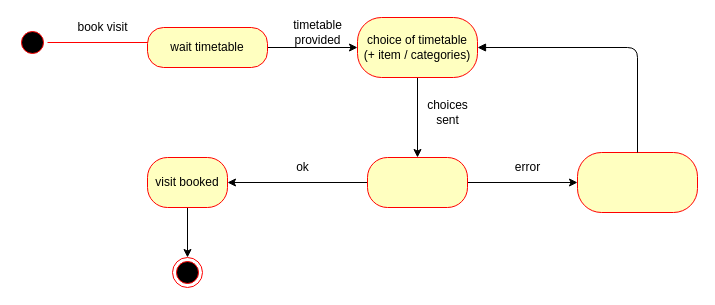
The diagram is 715 pixels wide and 305 high, and some of its shapes have lost their labels. The centre of each missing label's shape, as x and y in pixels:
wait response: (417,182)
wrong booking: (637,182)
